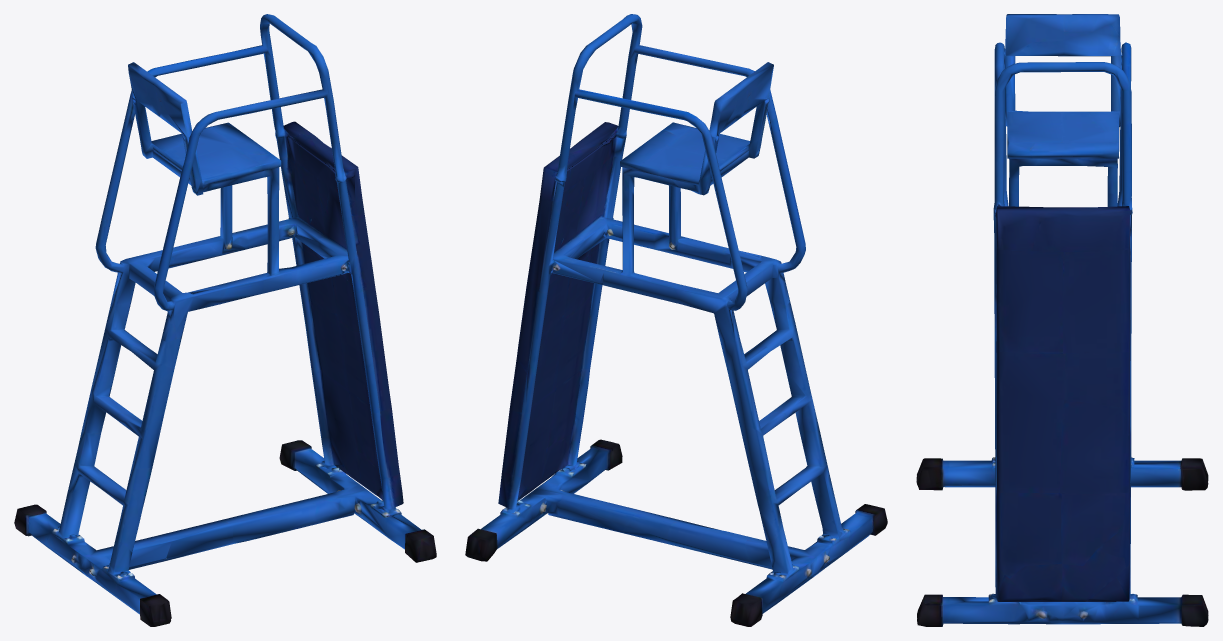
File: silla_arbitro.glb
3 renders of one model, left to right at view 1: azimuth 30°, elevation 25°; view 2: azimuth 150°, elevation 25°; view 3: azimuth 270°, elevation 25°, orthographic. The views are drawn at different scales.
Visible parts, largest first — view 1: tripo_node_f4783dc4-d22c-4616-91ba-7cf68a20e8f7; view 2: tripo_node_f4783dc4-d22c-4616-91ba-7cf68a20e8f7; view 3: tripo_node_f4783dc4-d22c-4616-91ba-7cf68a20e8f7.
Part boxes in pixels (<box>): tripo_node_f4783dc4-d22c-4616-91ba-7cf68a20e8f7: <box>14,14,436,626</box>; tripo_node_f4783dc4-d22c-4616-91ba-7cf68a20e8f7: <box>465,14,887,626</box>; tripo_node_f4783dc4-d22c-4616-91ba-7cf68a20e8f7: <box>916,14,1208,626</box>.
Bounding box in the file's own units: 1.23 × 2 × 1.01.
1 material, 1 textured.
